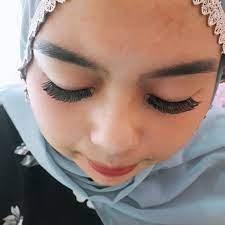Drowsy: (10, 0, 225, 184)
